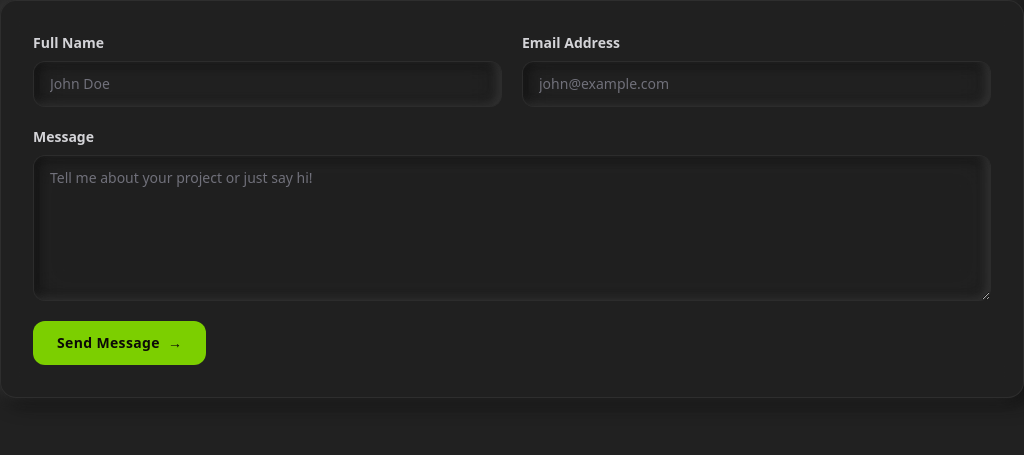
Test: shows an error when the email is invalid
The width and height of the screenshot is (1024, 455).
Type "Jane Doe" into the field with test id "contactFormName" at (268, 84), box [33, 61, 502, 107]
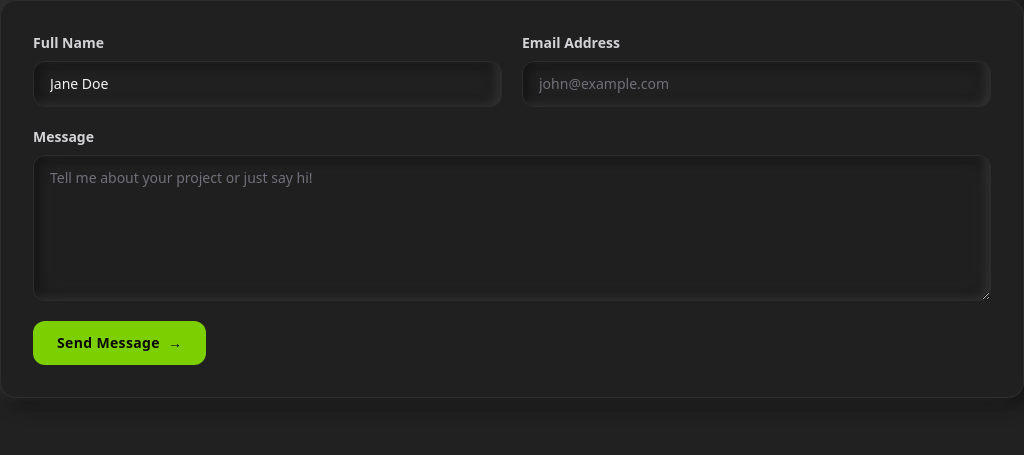
Type "not-an-email" into the field with test id "contactFormEmail" at (756, 84), box [522, 61, 991, 107]
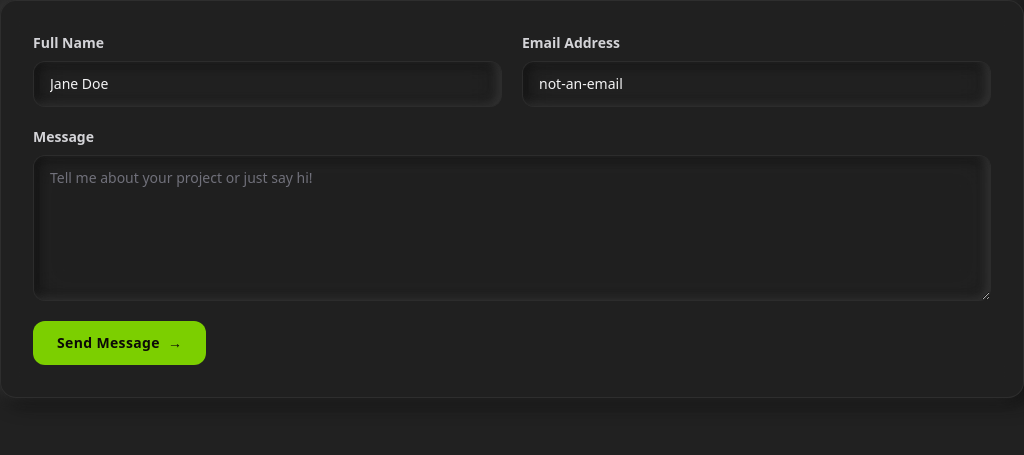
Type "Hello there" into the text box with test id "contactFormMessage" at (512, 228), box [33, 155, 991, 301]
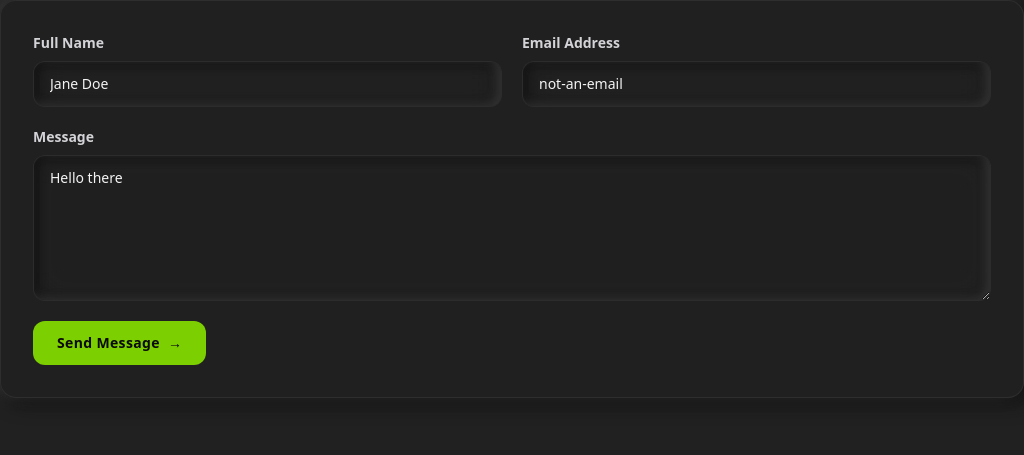
Click the button with test id "contactFormSubmit" at (120, 343), box [33, 321, 206, 365]
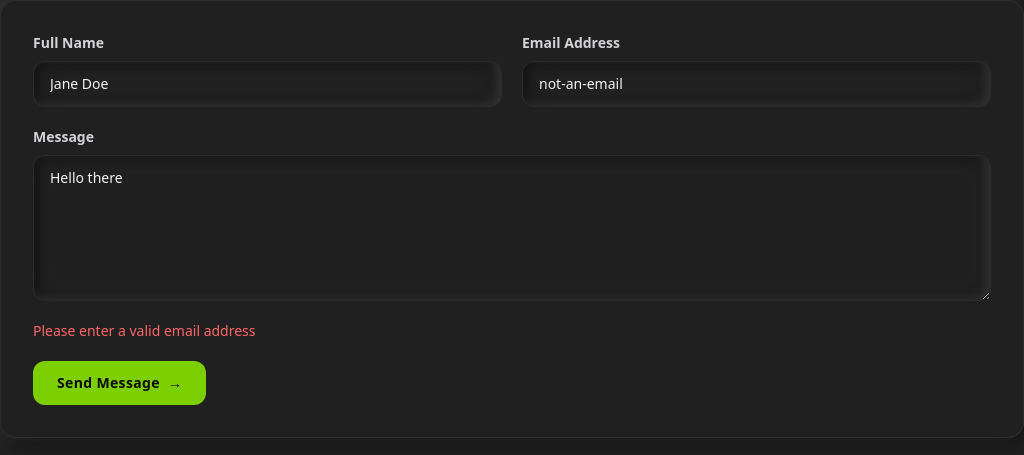
Now the text "Please enter a valid email address" is shown, box [33, 321, 256, 340]
